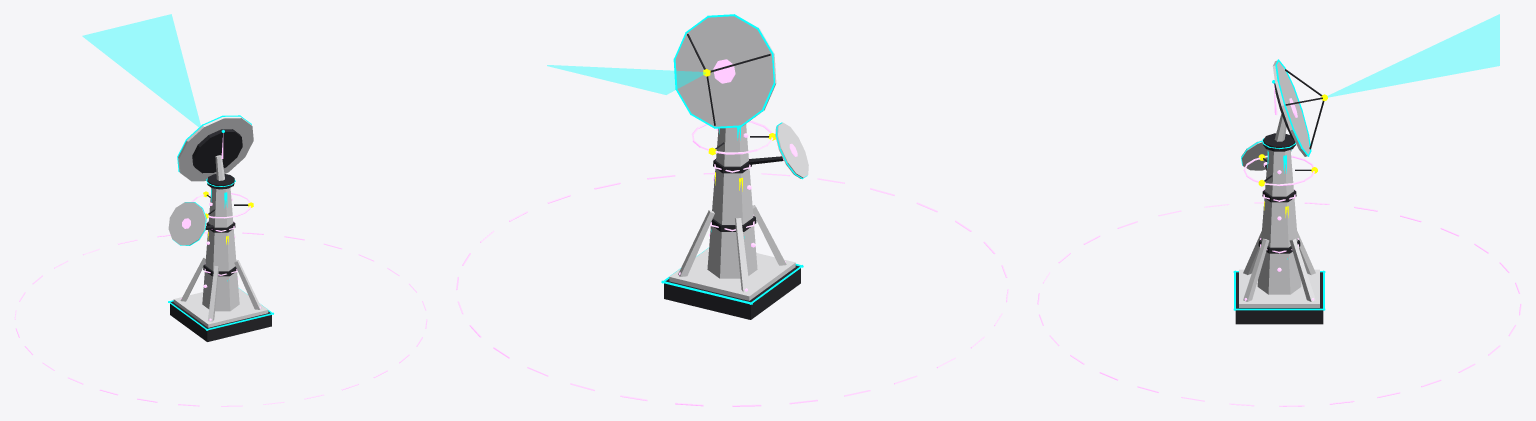
File: UplinkTower.fbx
The picture shows the model from 3 angles, left to right: view 1: azimuth 30°, elevation 25°; view 2: azimuth 150°, elevation 25°; view 3: azimuth 270°, elevation 25°; orthographic projection. The views are drawn at different scales.
Parts seen in each view (by area): view 1: Uplink_ScanCone, Uplink_Tower, Uplink_Dish, Uplink_DishBack, Uplink_BaseTop, Uplink_Base, UplMk2_Dish, UplMk2_RevealRadius; view 2: Uplink_Dish, Uplink_Tower, Uplink_BaseTop, Uplink_Base, Uplink_ScanCone, UplMk2_RevealRadius, UplMk2_Dish, Uplink_DishRim, Uplink_Buttress0, Uplink_Buttress1; view 3: Uplink_ScanCone, Uplink_Tower, Uplink_Base, Uplink_BaseTop, Uplink_Dish, UplMk2_RevealRadius, UplMk2_Dish, Uplink_Buttress0, Uplink_Buttress3, Uplink_BaseGlow.
Boxes of the visible parts, x1,y1,x2,y2 form: Uplink_ScanCone: (82,14,200,126); Uplink_Tower: (202,187,239,311); Uplink_Dish: (178,116,253,181); Uplink_DishBack: (192,129,242,173); Uplink_BaseTop: (173,288,268,327); Uplink_Base: (170,301,271,341); UplMk2_Dish: (168,202,206,245); UplMk2_RevealRadius: (14,232,427,406); Uplink_Dish: (675,16,776,126); Uplink_Tower: (707,124,757,278); Uplink_BaseTop: (669,248,795,300); Uplink_Base: (664,265,800,319); Uplink_ScanCone: (547,65,705,94); UplMk2_RevealRadius: (456,172,1008,406); UplMk2_Dish: (775,122,808,178); Uplink_DishRim: (673,14,775,128); Uplink_Buttress0: (678,210,714,276); Uplink_Buttress1: (735,218,750,292); Uplink_ScanCone: (1327,14,1499,97); Uplink_Tower: (1257,150,1301,294); Uplink_Base: (1235,272,1323,324); Uplink_BaseTop: (1239,269,1319,307); Uplink_Dish: (1272,60,1309,156); UplMk2_RevealRadius: (1037,202,1521,406); UplMk2_Dish: (1241,140,1291,170); Uplink_Buttress0: (1289,238,1315,301); Uplink_Buttress3: (1243,238,1269,301); Uplink_BaseGlow: (1233,270,1325,310).
Bounding box in the file's own units: 4.41 × 2.68 × 4.41.
